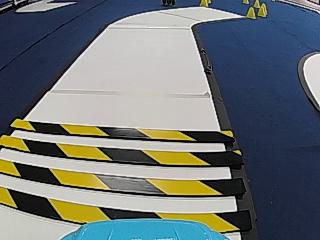bump: (5, 114, 250, 219)
